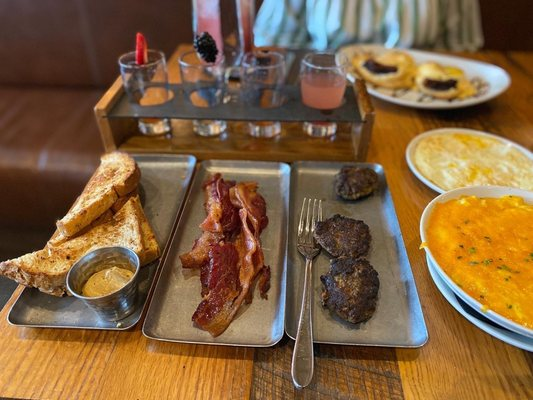burger: (288, 197, 325, 389)
pizza: (118, 50, 171, 106), (299, 54, 348, 111)
soup: (50, 150, 142, 244)
sushi: (419, 184, 533, 338), (405, 129, 533, 196), (66, 245, 142, 321)
